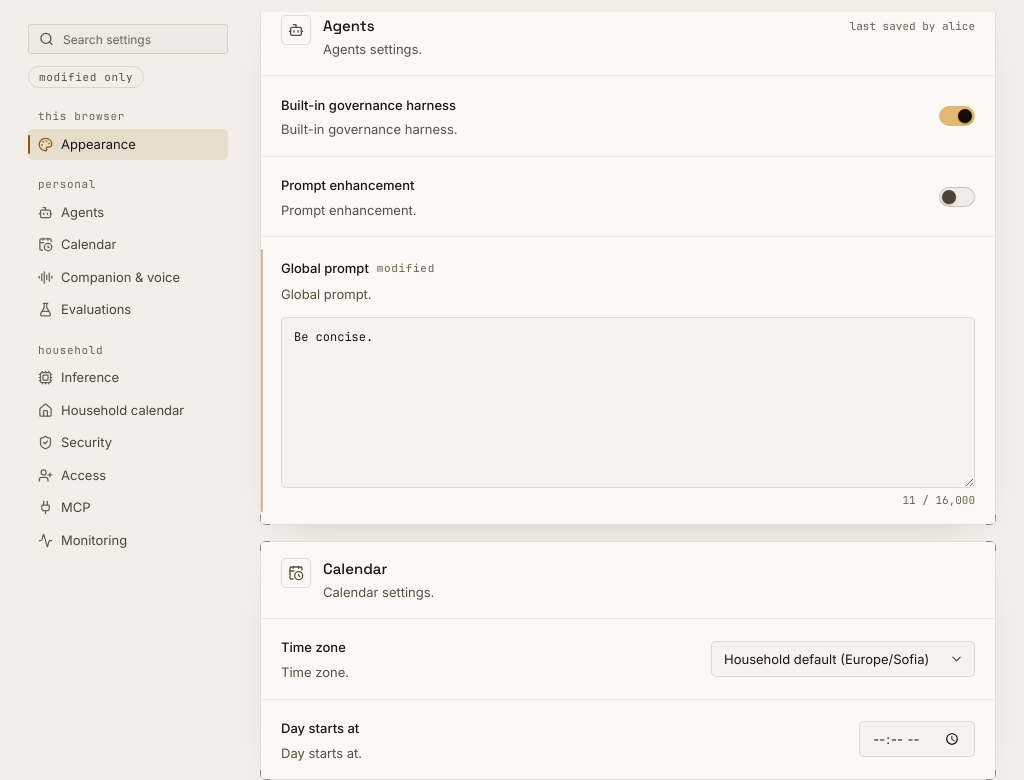
Test: Settings editing › keeps the changes of a group that failed and names it
(page scrolled)
Replace the text in the text box labelled "Global prompt" with "Saved." at (628, 402), box [281,317,975,488]
(page scrolled)
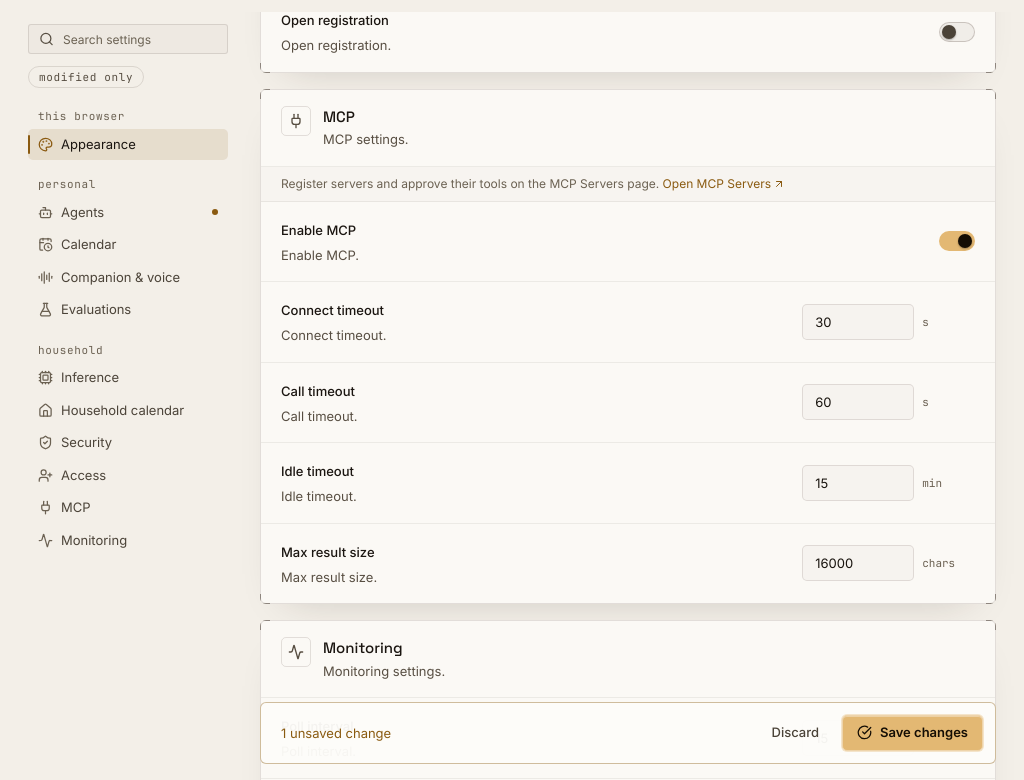
Replace the text in the number field labelled "Call timeout" with "90" at (858, 402), box [802,384,914,420]
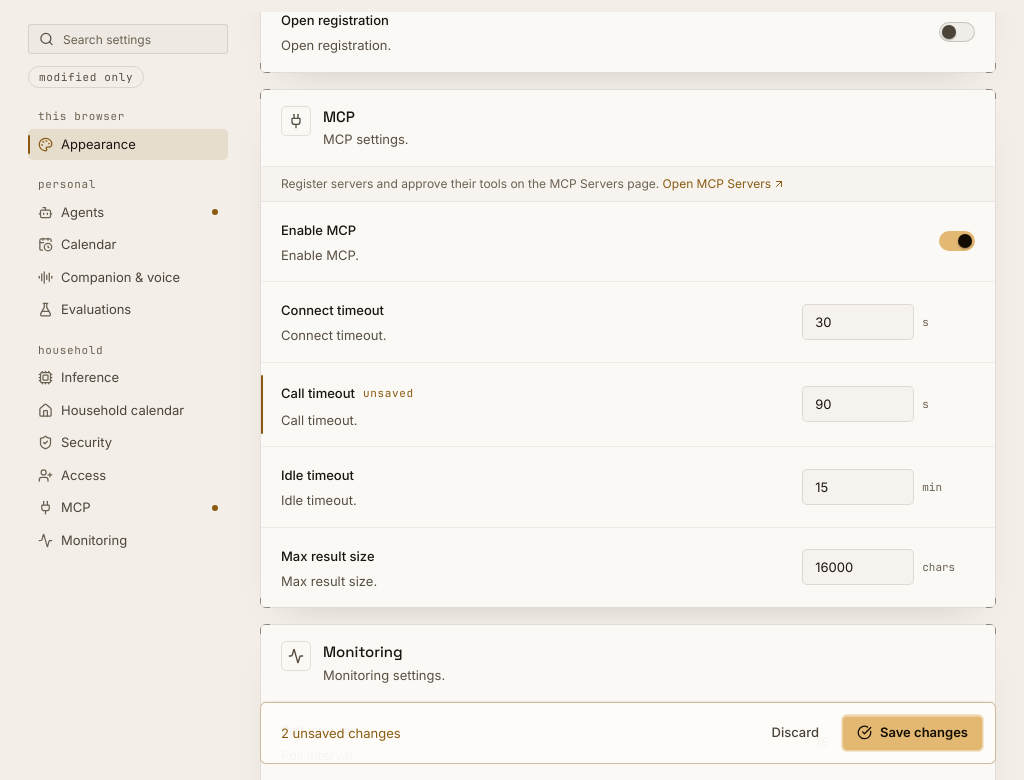
Click the button "Save changes" at (912, 733), box [842,715,983,751]
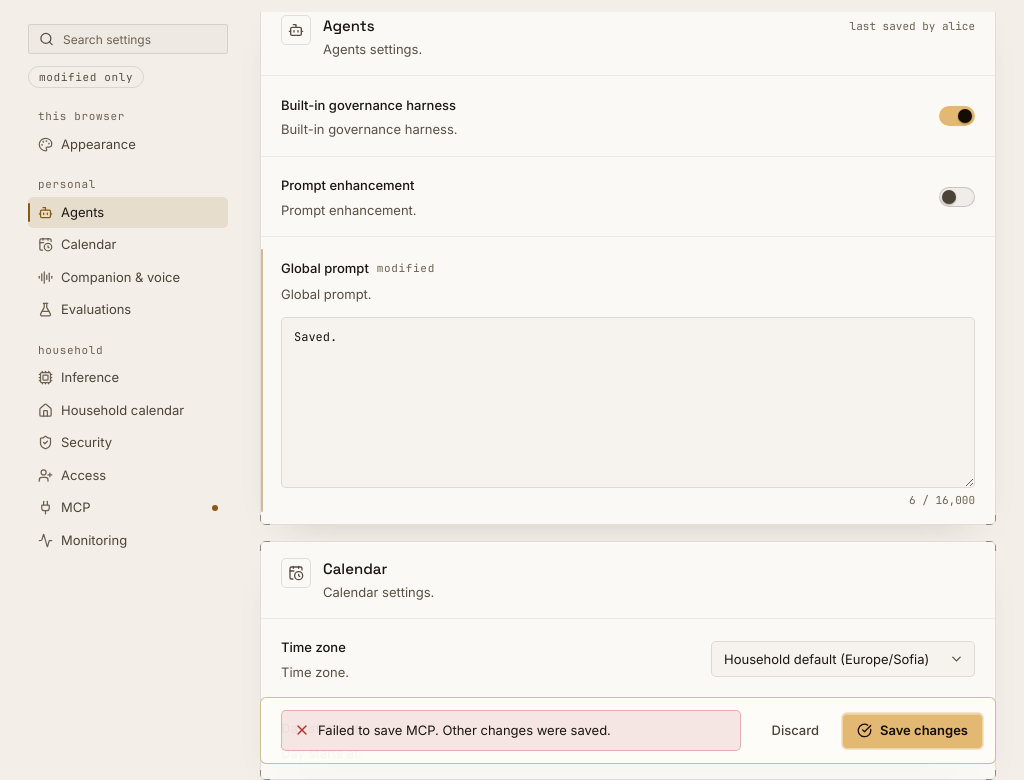
Expected: the text "Failed to save MCP. Other changes were saved." is shown, [318,721,611,740]
